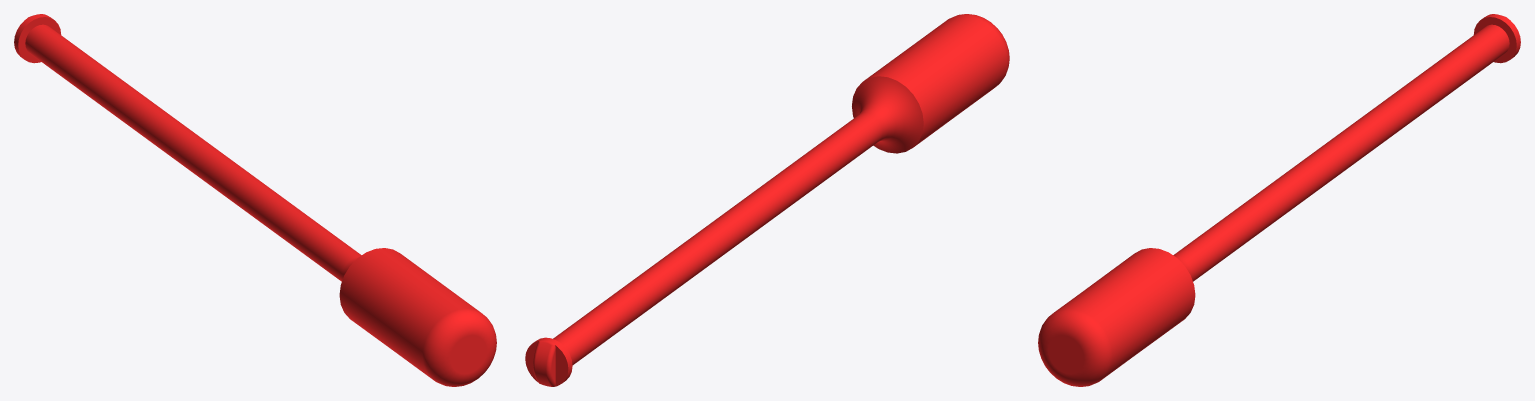
Rendered from rod.glb.
The picture shows the model from 3 angles, left to right: view 1: azimuth 30°, elevation 25°; view 2: azimuth 150°, elevation 25°; view 3: azimuth 330°, elevation 25°; orthographic projection.
Visible parts, largest first — view 1: rod; view 2: rod; view 3: rod.
Part boxes in pixels (bbox=[...]): rod: bbox=[14, 14, 496, 386]; rod: bbox=[525, 14, 1009, 386]; rod: bbox=[1038, 14, 1520, 386].
Bounding box in the file's own units: 0.02 × 0.02 × 0.212.
